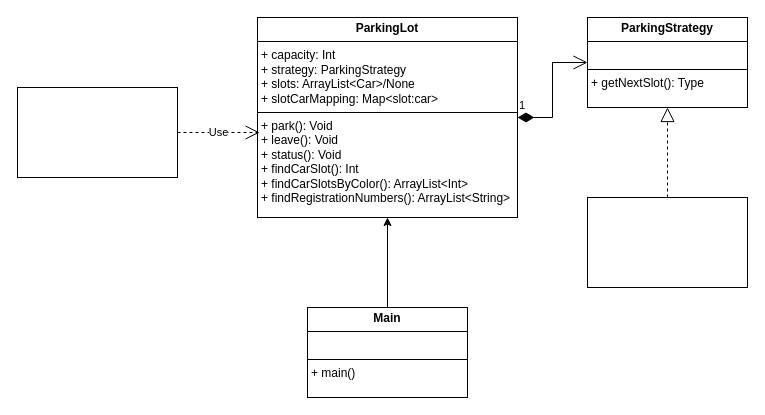
This 765x415 diagram has some shape labels left out. Each missing label, with the centre of its shape:
Car + registrationNumber: String + color: String: the point at 97,132
NearestParkingStrategy + field: Type + getNextSlot(): Type: the point at 667,242
